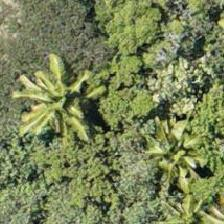coconut_tree: (10, 24, 100, 114), (132, 95, 222, 185)
